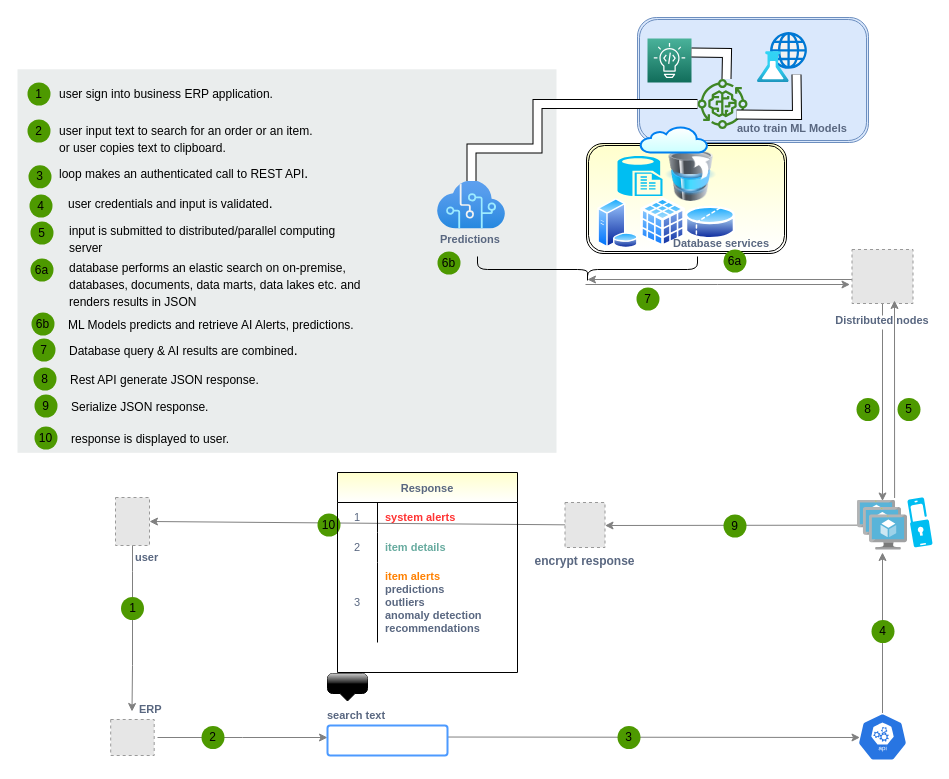
Some shapes in this 949 by 779 pixel diagram are drawn without their labels. Grey dashed boxes stand in for pictures. Each missing label, with the centre of its shape:
"Copy" belongs at (347,686).
"PO12345.." belongs at (387,740).
"REST API" belongs at (882,525).
